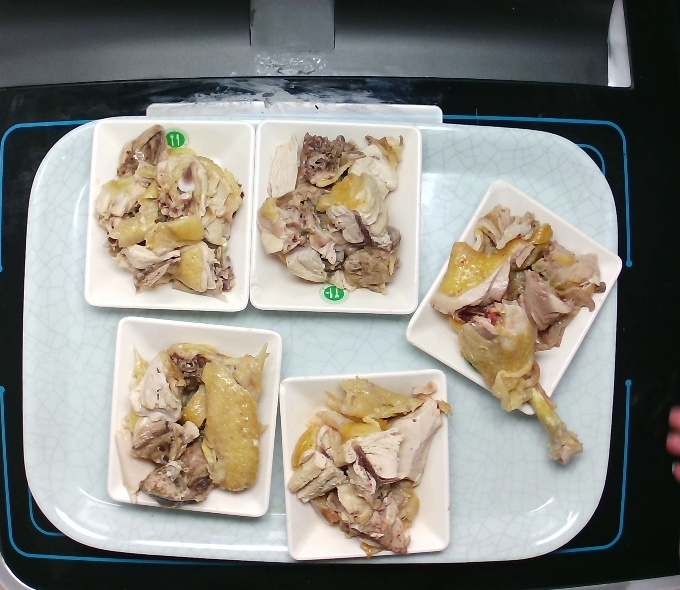wcq-BaiQieJi: (422, 200, 604, 472), (289, 373, 451, 556), (111, 325, 269, 512), (91, 121, 247, 302), (260, 130, 415, 296)
